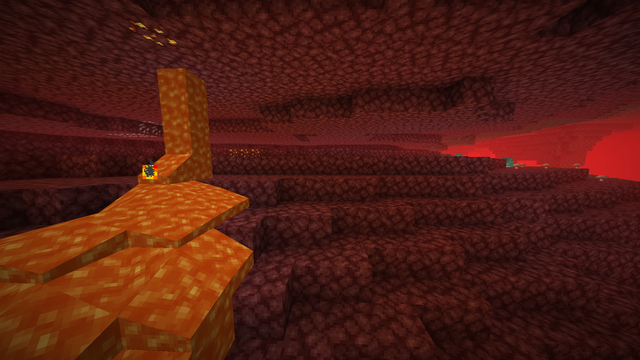nethergold: (125, 19, 178, 49), (228, 147, 263, 157)
quartz: (110, 119, 161, 138)
